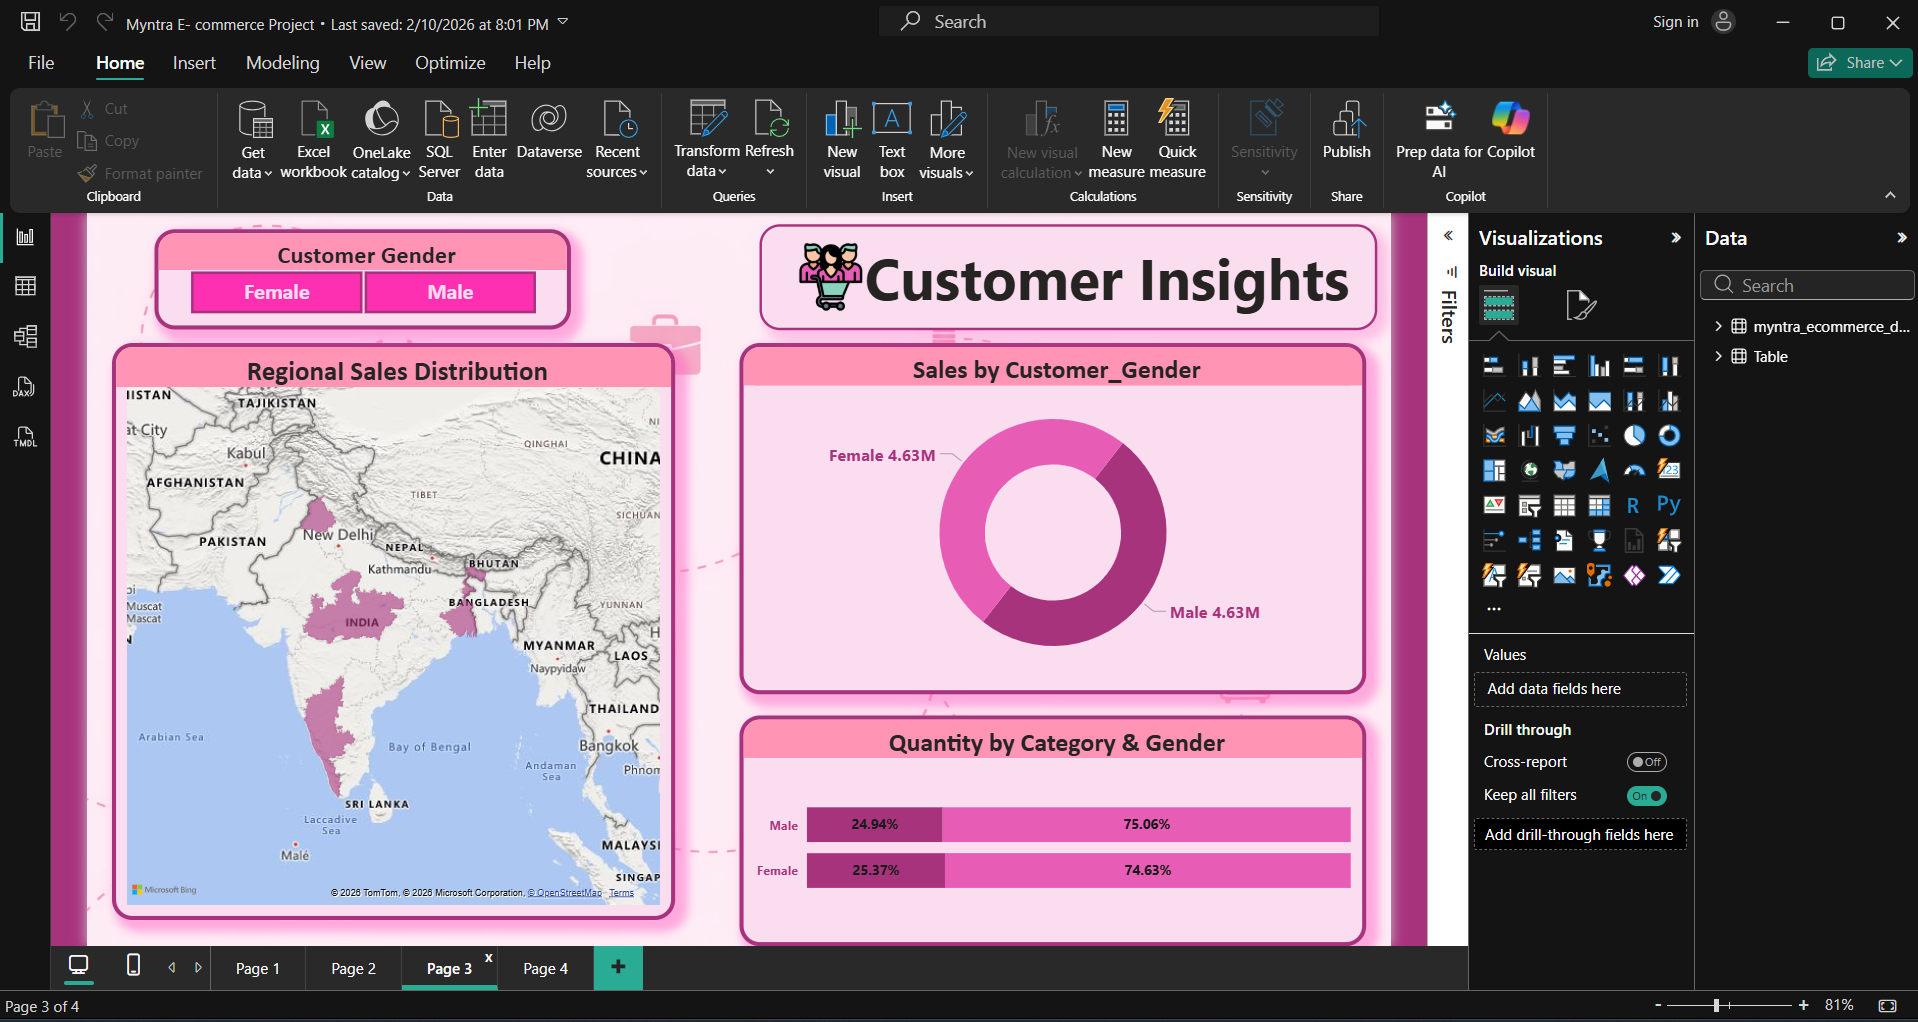

The page's visual inventory and layout, read from the dashboard file:
{"tool":"powerbi","page":{"name":"Page 3","canvas":[1280,720],"ordinal":2},"visuals":[{"type":"donutChart","title":"Sales by Customer_Gender","fields":{"Y":["Sum(myntra_ecommerce_dataset (1).Sales_Amount)"],"Category":["myntra_ecommerce_dataset (1).Customer_Gender"]},"box":[640,127.5,615,345],"z":0},{"type":"filledMap","title":"Regional Sales Distribution","fields":{"Category":["Table.States "]},"box":[25,127.5,552.5,566.2],"z":1000},{"type":"hundredPercentStackedBarChart","title":"Quantity by Category & Gender","fields":{"Category":["myntra_ecommerce_dataset (1).Customer_Gender"],"Y":["CountNonNull(myntra_ecommerce_dataset (1).Category)","Sum(myntra_ecommerce_dataset (1).Quantity)"]},"box":[640,493.8,615,226.2],"z":2000},{"type":"textbox","box":[660,11.2,606.2,103.8],"z":3000},{"type":"image","box":[660,27.5,138.8,72.5],"z":4000},{"type":"slicer","title":"Customer Gender","fields":{"Values":["myntra_ecommerce_dataset (1).Customer_Gender"]},"box":[66.2,16.2,408.8,98.8],"z":5000}]}

Visuals, with their boxes on the page's 1280x720 design canvas (x1, y1, x2, y2). These are canvas units, not pixel positions in the 1918x1022 screenshot, which may show the page scaled, cropped or inside an application window:
"Sales by Customer_Gender" donutChart: detection(640, 128, 1255, 472)
"Regional Sales Distribution" filledMap: detection(25, 128, 578, 694)
"Quantity by Category & Gender" hundredPercentStackedBarChart: detection(640, 494, 1255, 720)
textbox: detection(660, 11, 1266, 115)
image: detection(660, 28, 799, 100)
"Customer Gender" slicer: detection(66, 16, 475, 115)
